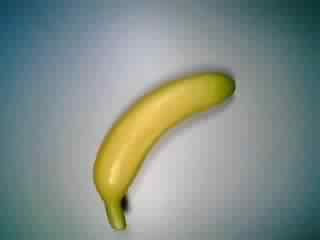banana: (88, 65, 241, 231)
